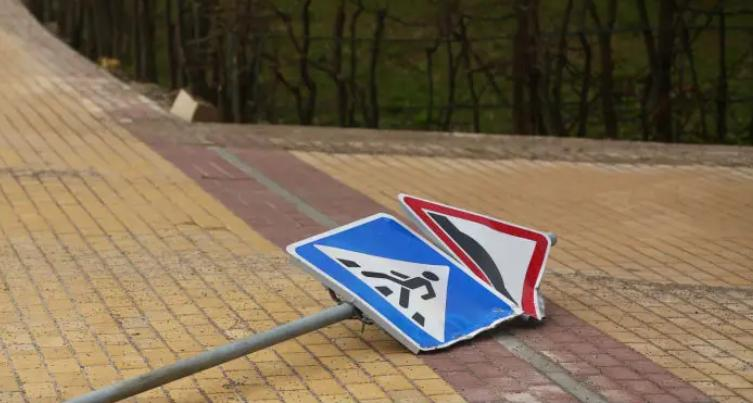obstructed_road_sign: (399, 194, 555, 319)
road_sign: (287, 213, 517, 350)
